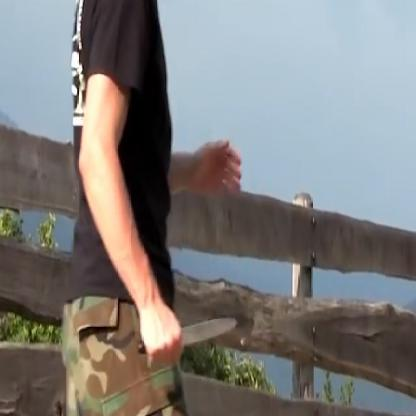knife: (136, 306, 246, 378)
